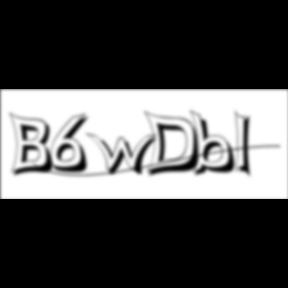6: (50, 112, 96, 176)
B: (9, 111, 59, 179)
D: (144, 110, 206, 180)
b: (190, 109, 242, 179)
l: (234, 108, 258, 182)
w: (86, 132, 164, 178)
